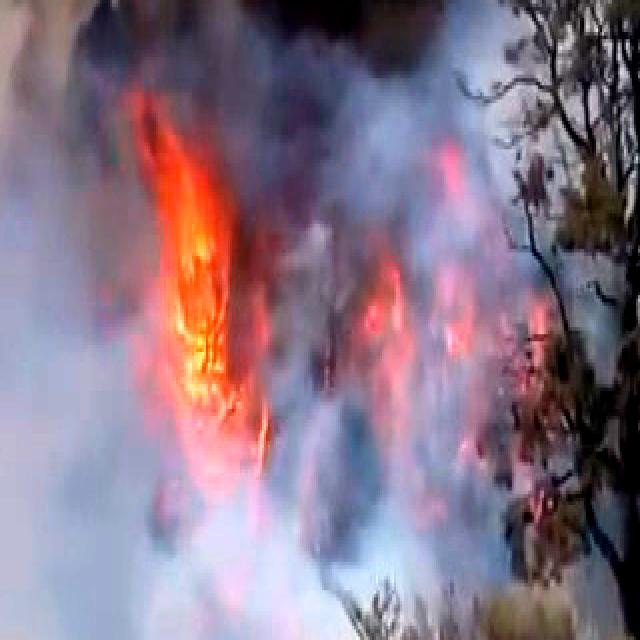fire: (118, 0, 282, 583), (318, 89, 496, 583)
